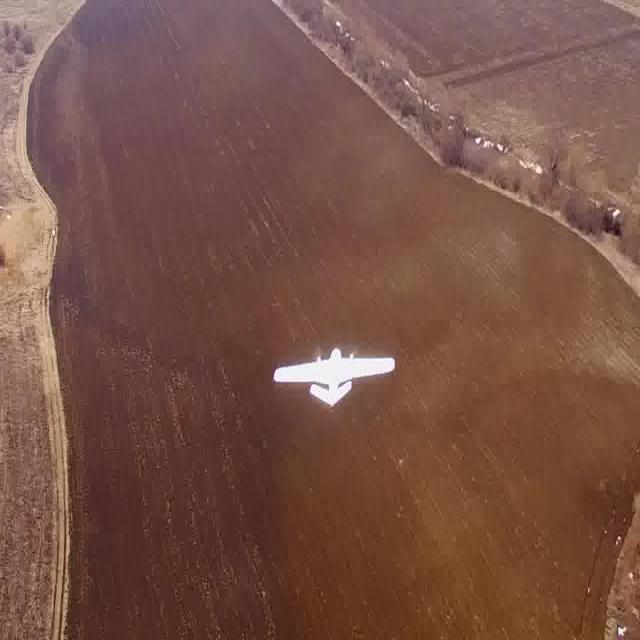iha: (270, 365, 401, 385)
